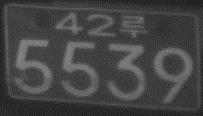2: (86, 12, 116, 37)
3: (106, 42, 147, 102)
4: (55, 11, 83, 36)
5: (12, 38, 53, 95), (59, 41, 100, 98)
9: (153, 46, 194, 103)
루: (119, 14, 147, 38)
